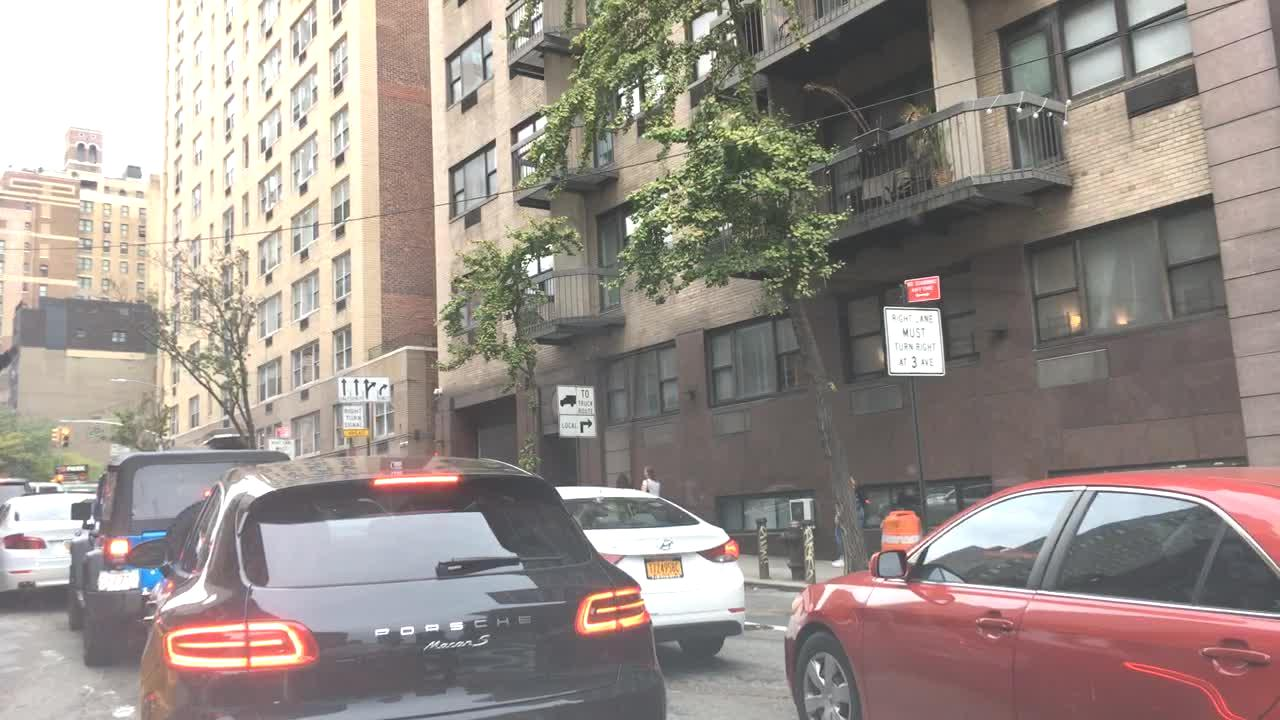Hyundai: (653, 534, 677, 552)
porsche: (374, 610, 541, 649)
